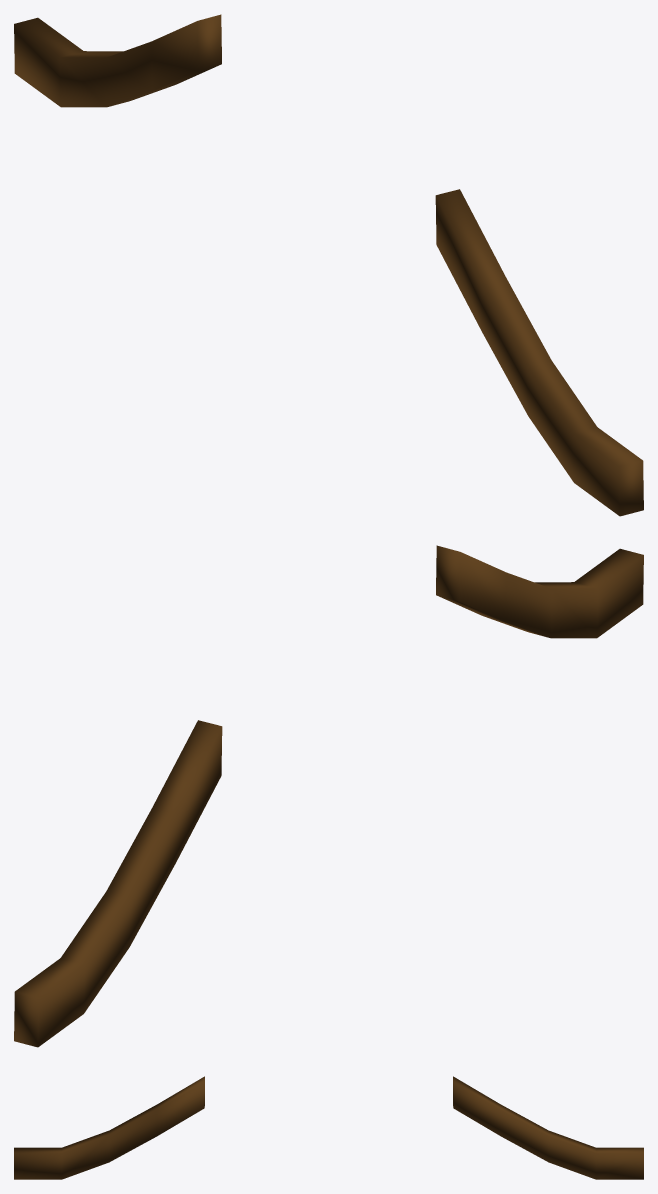
File: ShaunBrows.glb
The picture shows the model from 3 angles, top to bottom: view 1: azimuth 30°, elevation 25°; view 2: azimuth 150°, elevation 25°; view 3: azimuth 270°, elevation 25°; orthographic projection. The views are drawn at different scales.
Parts seen in each view (by area): view 1: ShaunBrows; view 2: ShaunBrows; view 3: ShaunBrows.
Boxes of the visible parts, x1=… form: ShaunBrows: x1=14, y1=14, x2=643, y2=516; ShaunBrows: x1=14, y1=545, x2=643, y2=1047; ShaunBrows: x1=14, y1=1076, x2=643, y2=1179.
Bounding box in the file's own units: 0.0733 × 0.5278 × 3.09.
